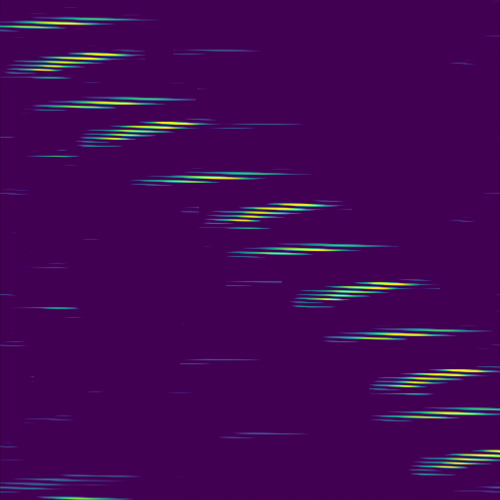semblance: (91, 117, 198, 143), (19, 48, 129, 72), (223, 197, 319, 224), (391, 367, 488, 390), (315, 282, 412, 302), (434, 446, 500, 471), (152, 170, 244, 187), (56, 97, 141, 112), (243, 244, 334, 258), (4, 19, 97, 30), (352, 330, 426, 343), (394, 410, 484, 420)
